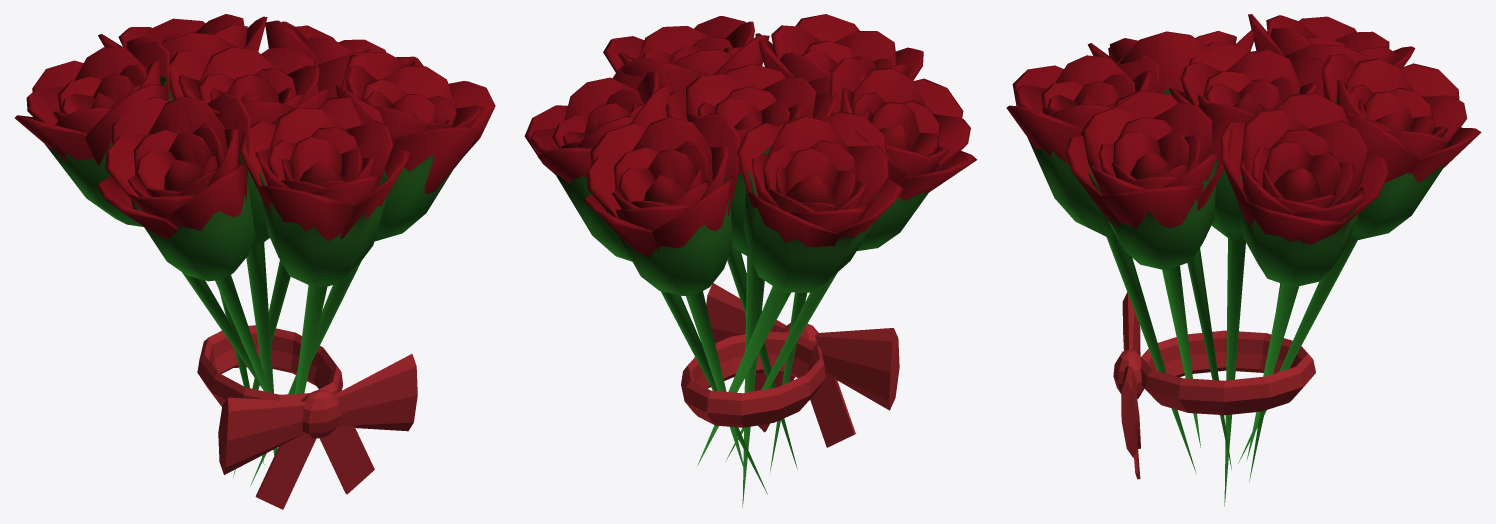
Rendered from Flowers.fbx.
The picture shows the model from 3 angles, left to right: view 1: azimuth 30°, elevation 25°; view 2: azimuth 150°, elevation 25°; view 3: azimuth 270°, elevation 25°; orthographic projection.
Parts seen in each view (by area): view 1: BuqueRosas; view 2: BuqueRosas; view 3: BuqueRosas.
Boxes of the visible parts, <box> form: BuqueRosas: <box>14,14,495,509</box>; BuqueRosas: <box>524,14,976,507</box>; BuqueRosas: <box>1006,14,1481,506</box>.
Bounding box in the file's own units: 91.7 × 104 × 101.
